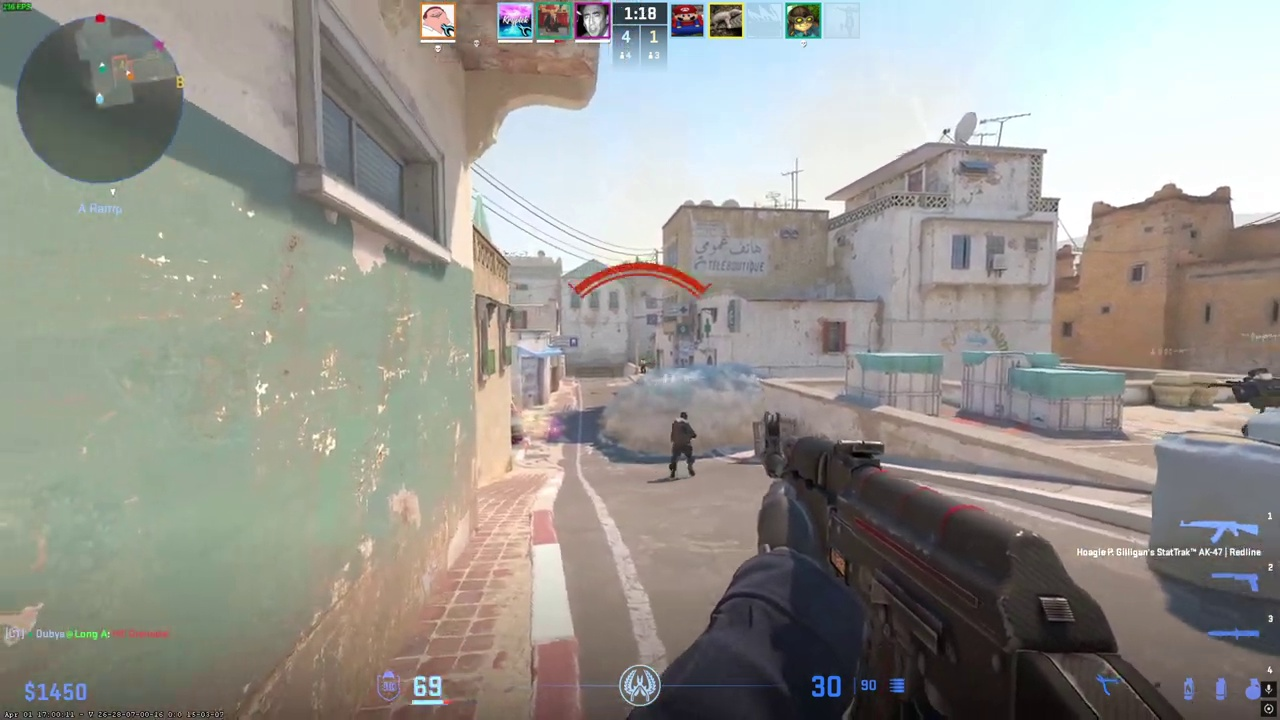CT: (1236, 367, 1279, 441), (669, 412, 696, 478)
Terrorist: (640, 358, 646, 374)
